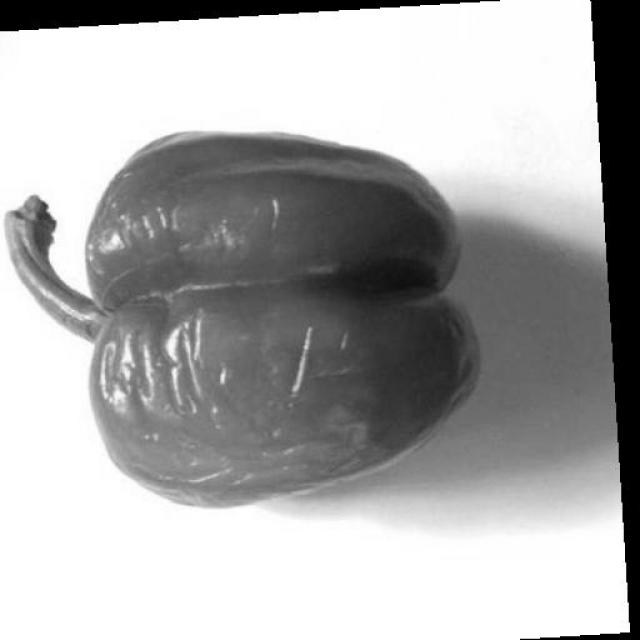Stale_Capsicum: (0, 138, 477, 508)
